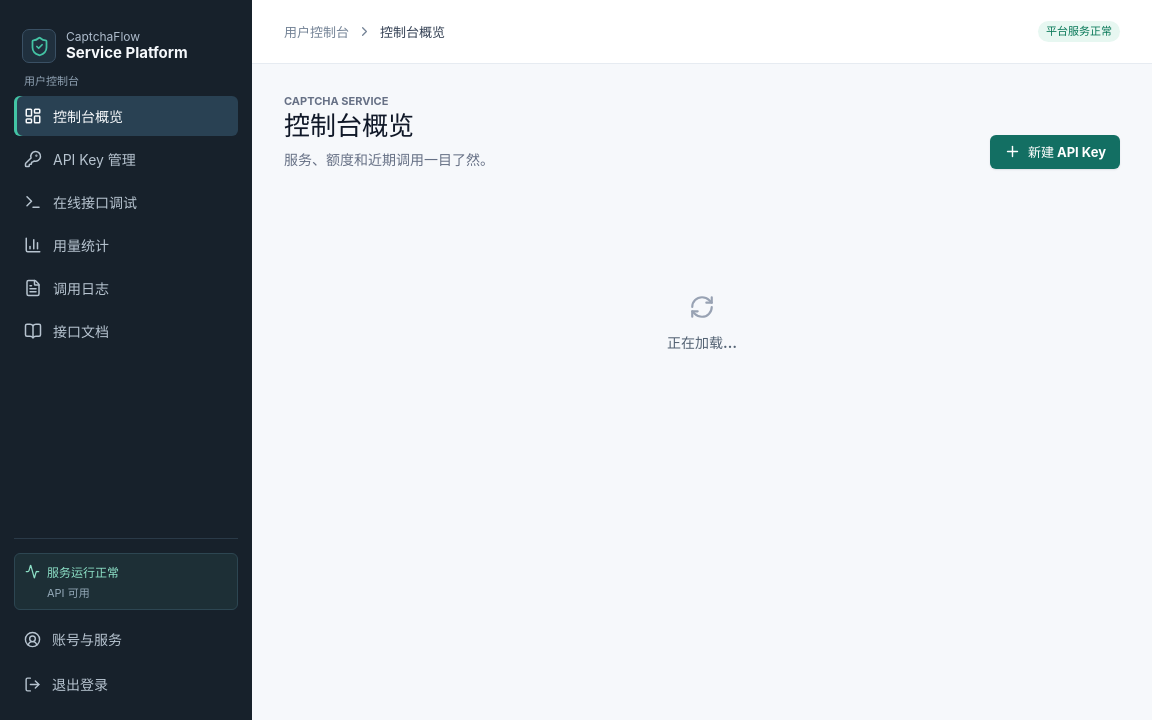
Test case: App › returns home from the console brand button
Expected: the heading "控制台概览" is shown, x1=284 y1=110 x2=414 y2=141
Step 1. Click the button named "CaptchaFlow Service Platform" → (126, 46), box x1=14 y1=20 x2=238 y2=72
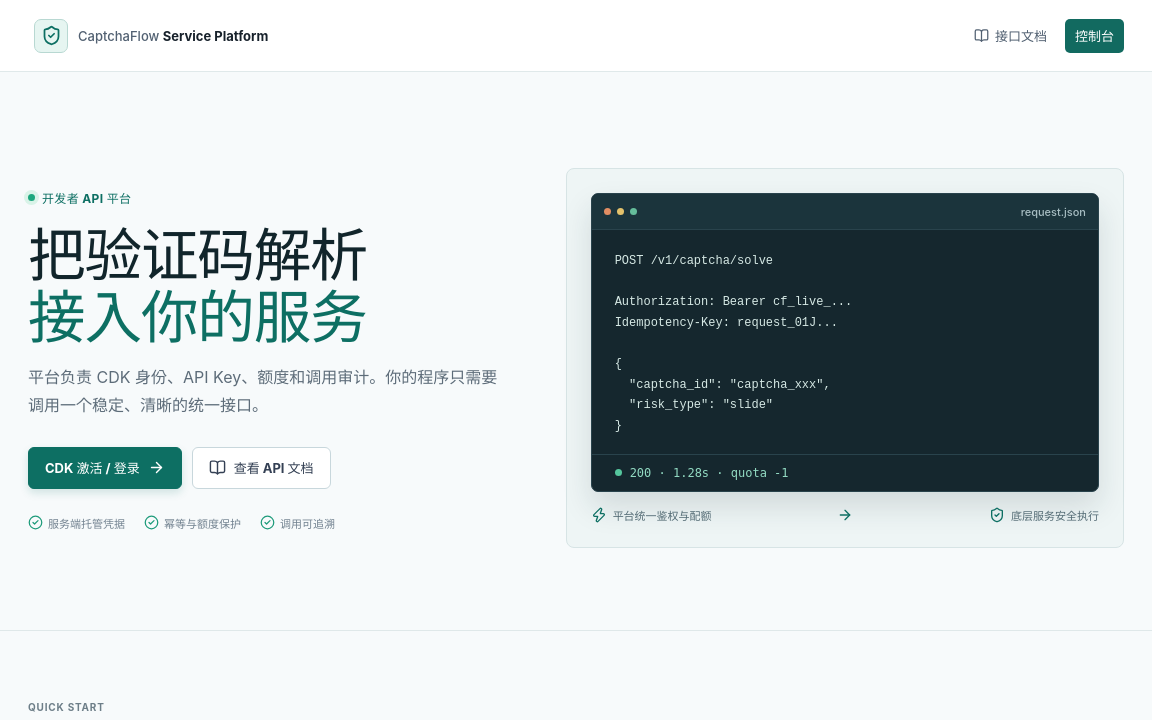
Result: the heading "把验证码解析" is shown at x1=28 y1=220 x2=367 y2=352
